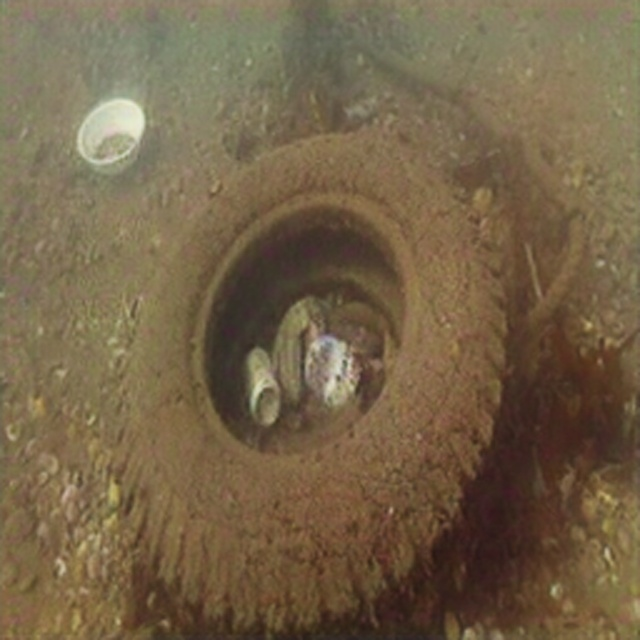mine: (111, 133, 509, 639)
